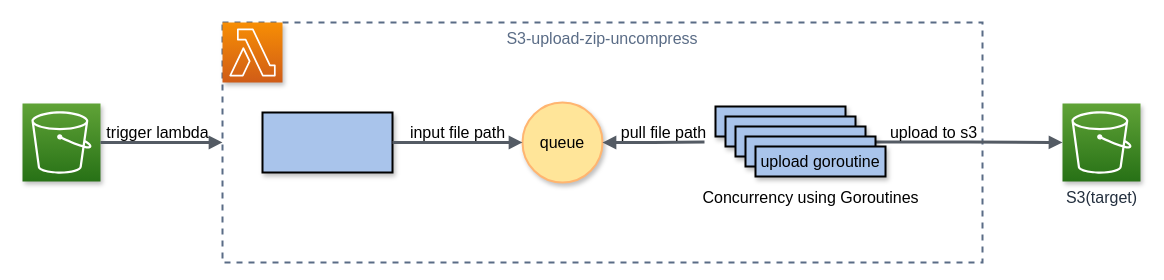
Image size: 1164x280. Some labels were removed from this diagram. The shapes that lost their labels are listed below. From the top down, each one's centre as x and y in pixels, then its label:
At (x=62, y=143): "S3(source)".
At (x=328, y=143): "download zip file & uncompress".
